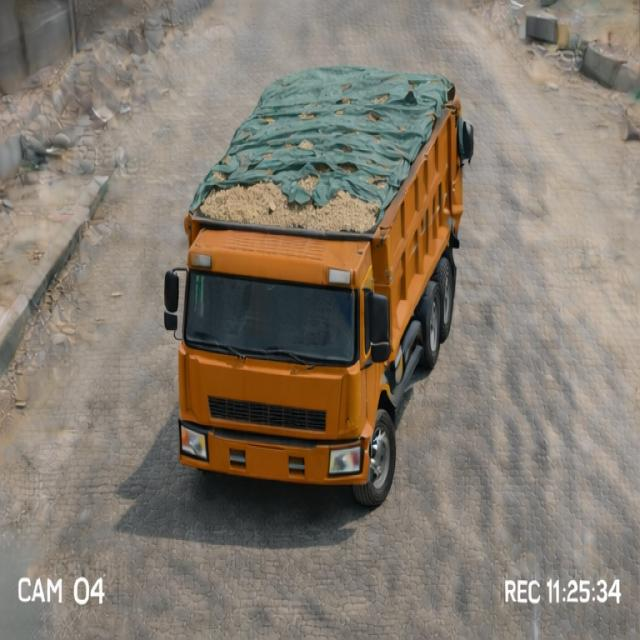Box: (185, 62, 465, 232)
Truck: (158, 50, 509, 494)
